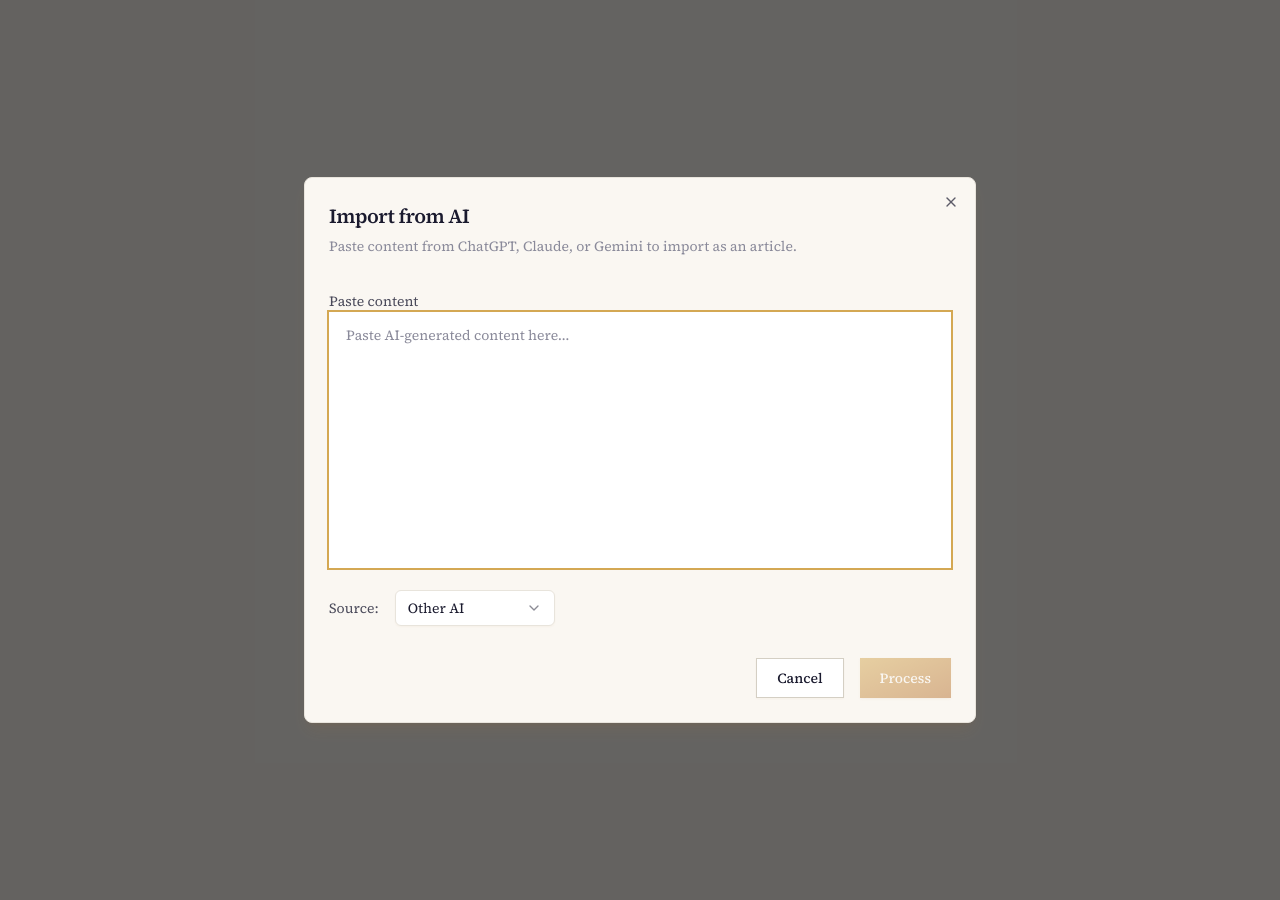
ImportModal › Processing Flow › shows error message on failure
Type "Test content" into the text box at (640, 440), box [329,312,951,568]
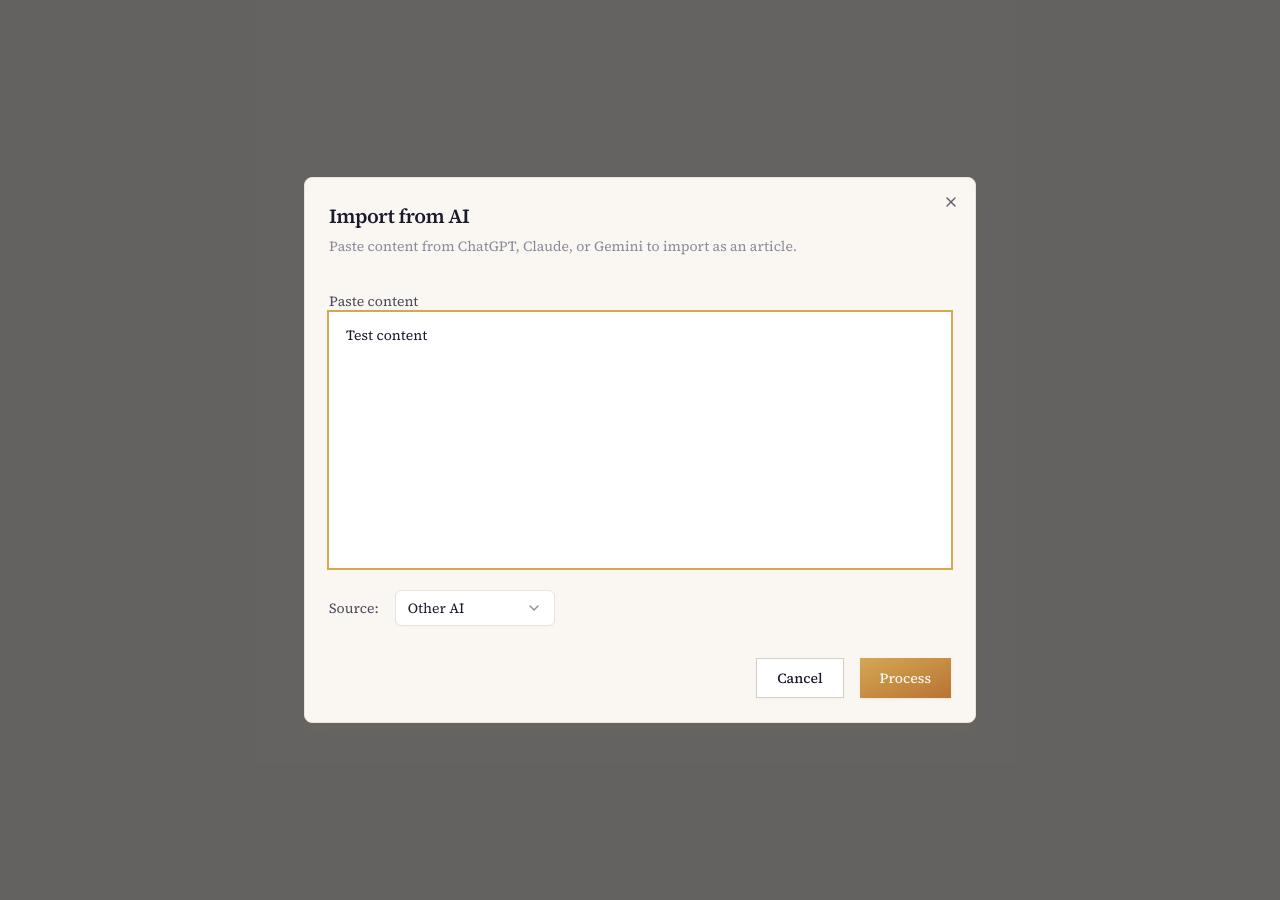
Click the button "Process" at (905, 678), box [860,658,951,698]
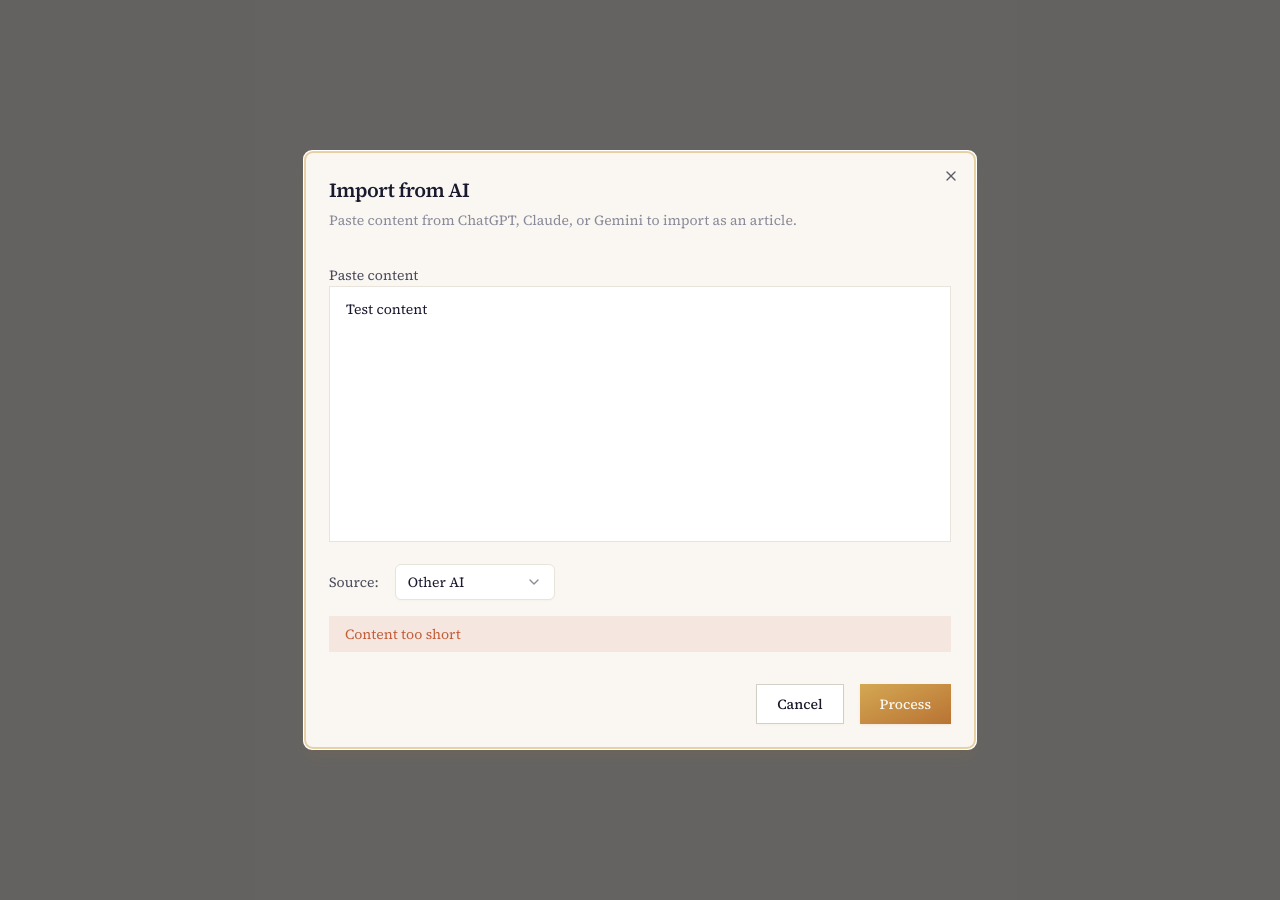
Result: the text "Content too short" is shown at [329,616,951,652]
